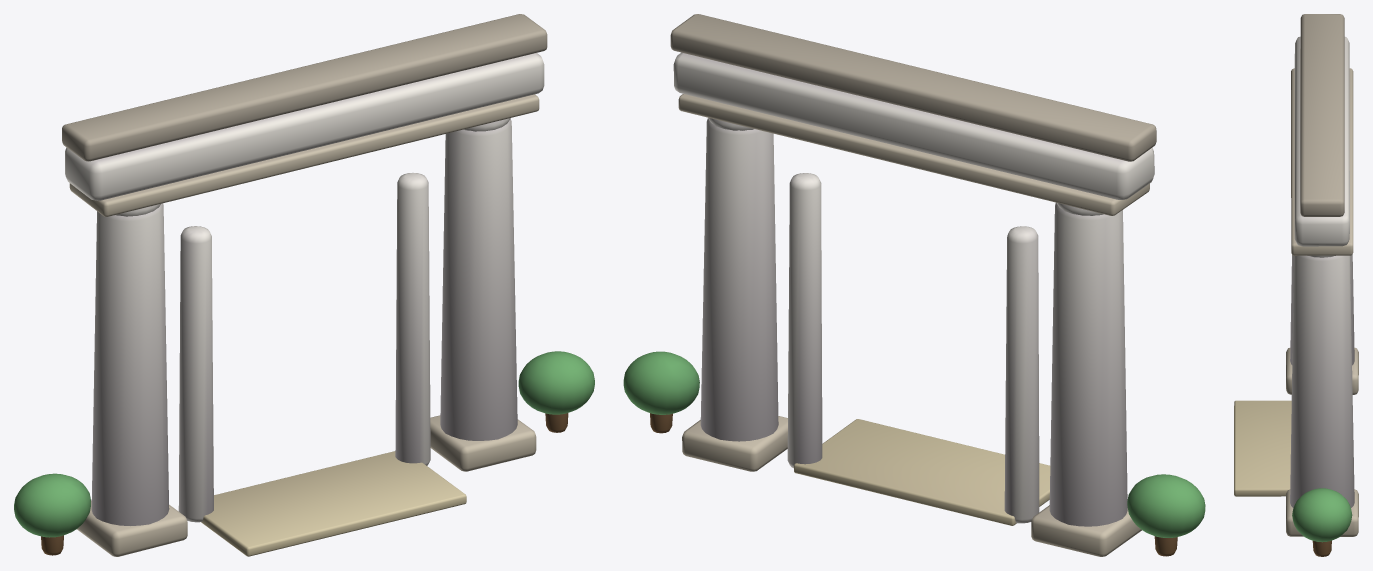
3 views of the same model, side by side, from view 1: azimuth 30°, elevation 25°; view 2: azimuth 150°, elevation 25°; view 3: azimuth 270°, elevation 25° (orthographic). The views are drawn at different scales.
Parts seen in each view (by area): view 1: gate_7d99047c; view 2: gate_7d99047c; view 3: gate_7d99047c.
Boxes of the visible parts, x1,y1,x2,y2 form: gate_7d99047c: [14, 14, 594, 556]; gate_7d99047c: [623, 14, 1205, 556]; gate_7d99047c: [1234, 14, 1358, 556].
Bounding box in the file's own units: 6.25 × 4.34 × 1.42.
